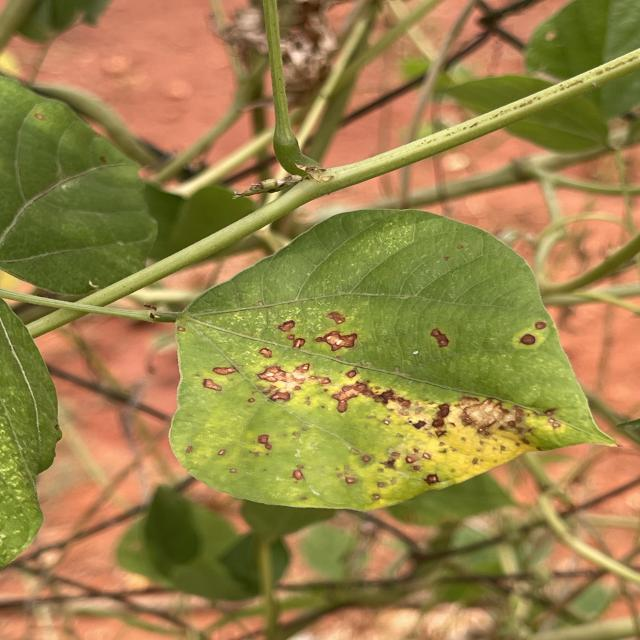Dolicos bean_cercospora leaf spot: (174, 204, 612, 506)
